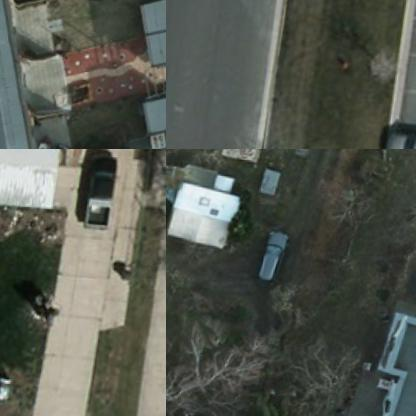car: (254, 225, 298, 280), (0, 363, 28, 398), (385, 126, 415, 148)
pickup: (84, 151, 120, 229)
